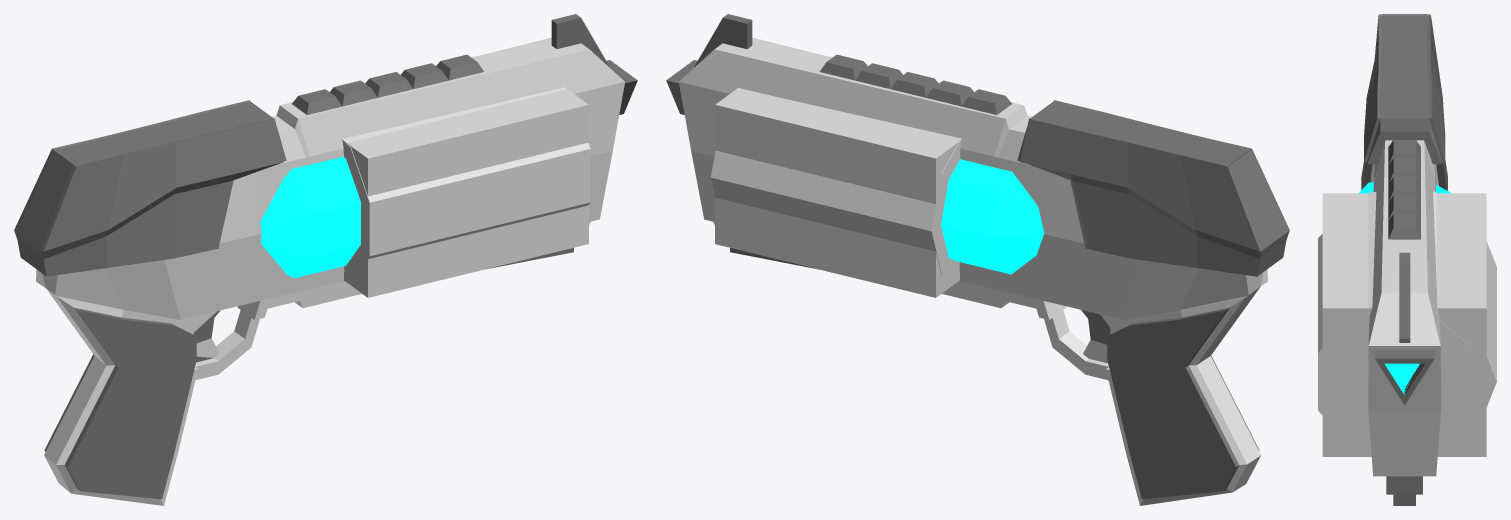
File: Revolver.fbx
The picture shows the model from 3 angles, left to right: view 1: azimuth 30°, elevation 25°; view 2: azimuth 150°, elevation 25°; view 3: azimuth 270°, elevation 25°; orthographic projection. The views are drawn at different scales.
Visible parts, largest first — view 1: Gun, GunCover, HoleCube, Cylinder, Energy, Cube.003, GunTip; view 2: Gun, GunCover, HoleCube, Cylinder, Energy, Cube.003; view 3: Gun, HoleCube, GunCover, GunBarrel, Cylinder, Cube.003, GunHole, GunTip.
Boxes of the visible parts, x1,y1,x2,y2 form: Gun: [36, 14, 637, 505]; GunCover: [14, 100, 286, 276]; HoleCube: [292, 88, 588, 297]; Cylinder: [342, 87, 590, 283]; Energy: [260, 156, 360, 278]; Cube.003: [292, 61, 483, 114]; GunTip: [551, 18, 609, 66]; Gun: [666, 14, 1267, 505]; GunCover: [1017, 100, 1289, 276]; HoleCube: [715, 88, 1011, 297]; Cylinder: [711, 99, 961, 279]; Energy: [941, 159, 1044, 274]; Cube.003: [853, 61, 1011, 114]; Gun: [1368, 140, 1441, 505]; HoleCube: [1322, 193, 1486, 456]; GunCover: [1361, 14, 1447, 190]; GunBarrel: [1327, 321, 1481, 442]; Cylinder: [1318, 191, 1496, 414]; Cube.003: [1388, 140, 1420, 239]; GunHole: [1375, 350, 1434, 395]; GunTip: [1399, 252, 1410, 342].
Bounding box in the file's own units: 163 × 99.47 × 39.68.
